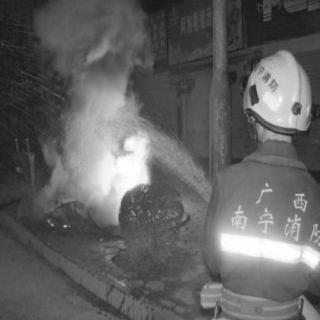Fire: (99, 140, 160, 196)
Smoke: (34, 7, 116, 215)
other: (235, 46, 312, 134), (219, 228, 319, 272)
